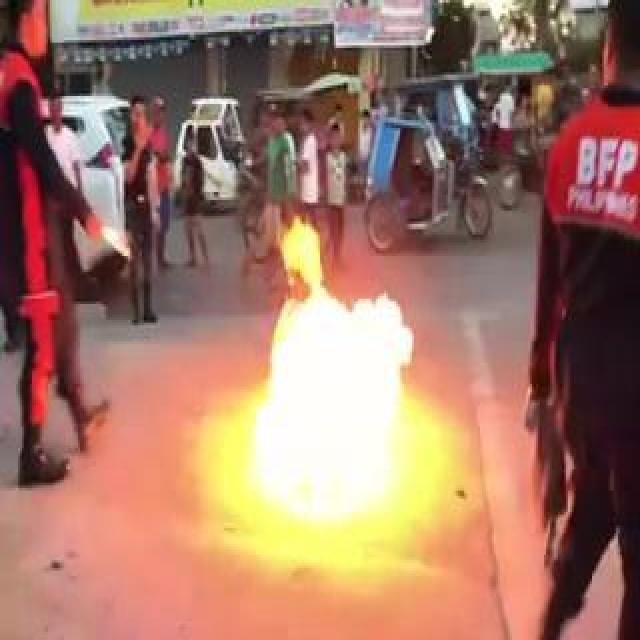Smoke: (275, 205, 389, 523)
